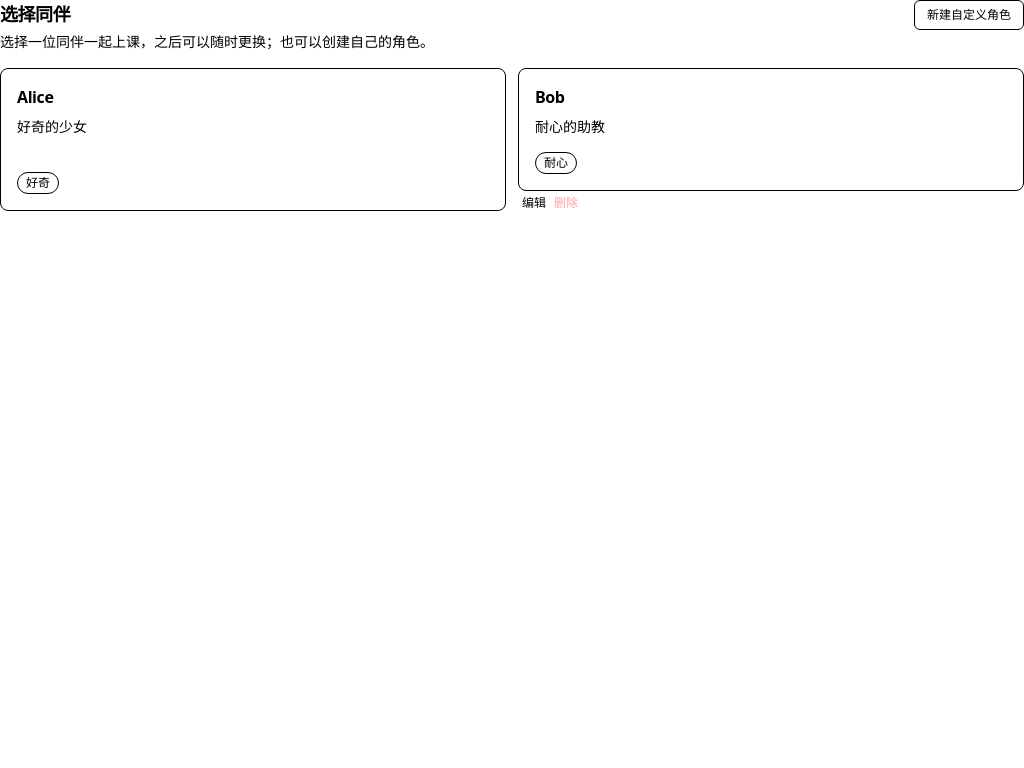
Test: CompanionSelector — custom companions › creates a custom companion from the form
Click the button "新建自定义角色" at (969, 15), box [914,0,1023,30]
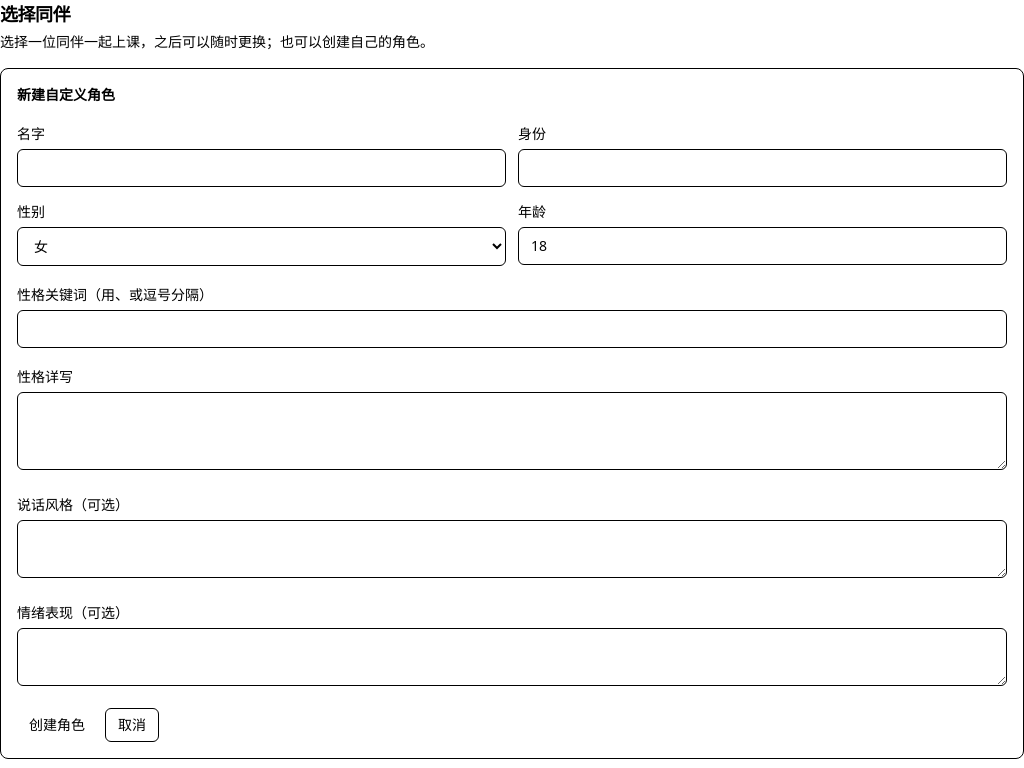
Type "小助手" into the field labelled "名字" at (262, 168), box [17,149,506,187]
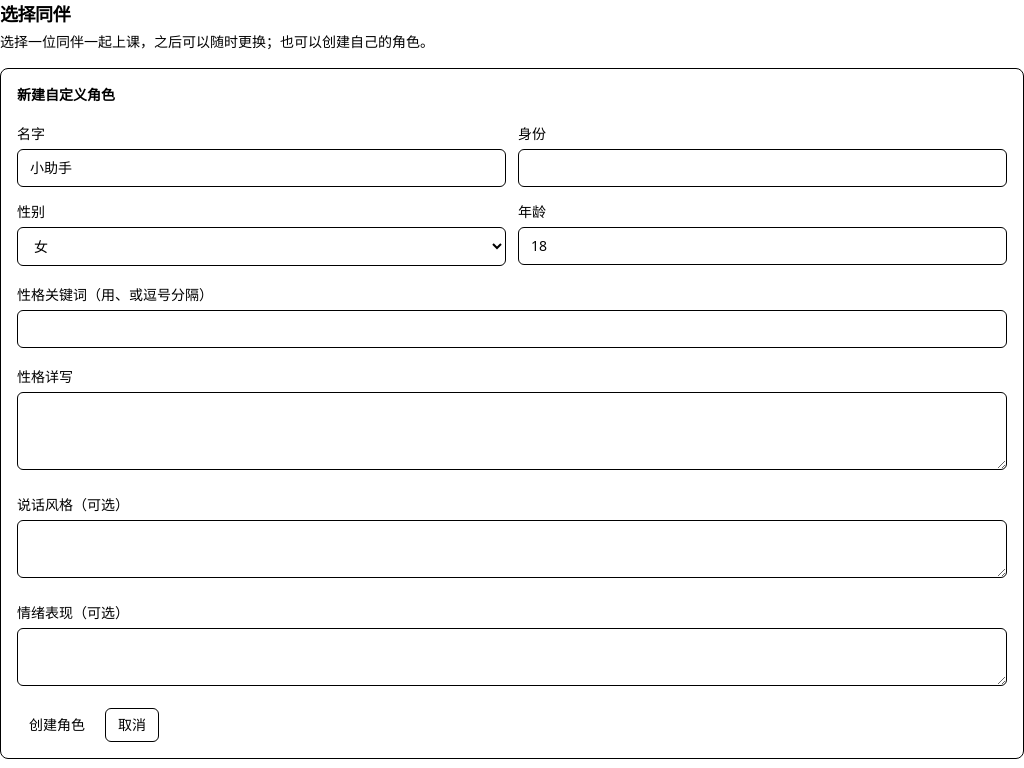
Type "学习伙伴" into the field labelled "身份" at (762, 168), box [518,149,1007,187]
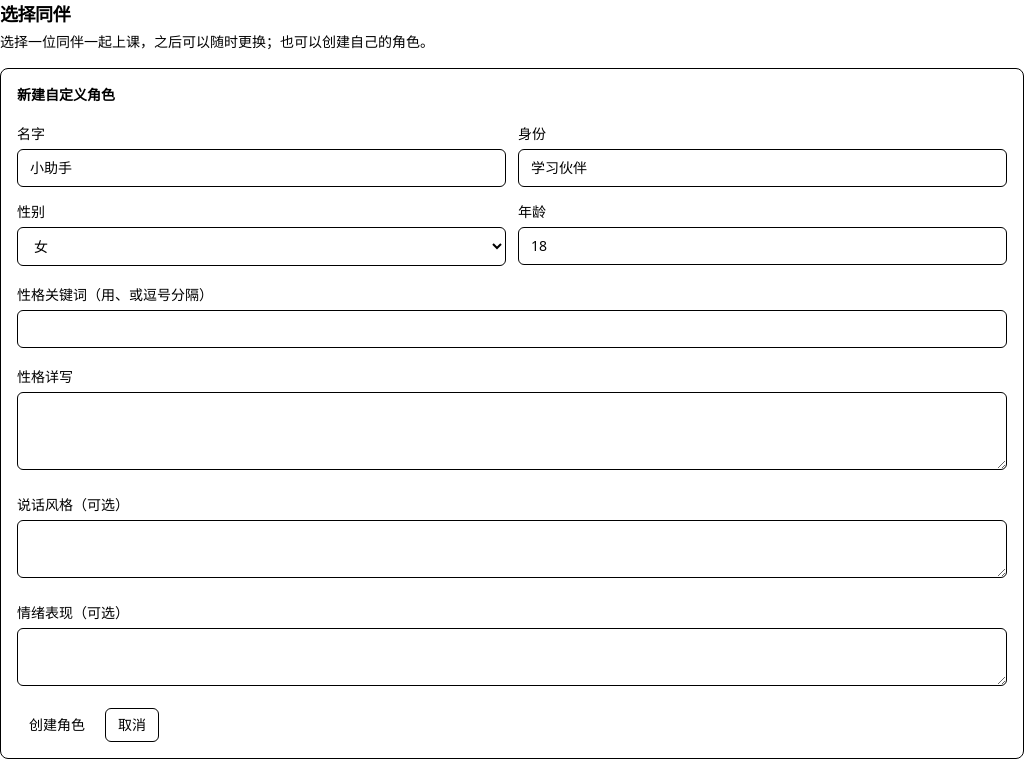
Type "耐心、幽默" into the field labelled "性格关键词（用、或逗号分隔）" at (512, 329), box [17,310,1007,348]
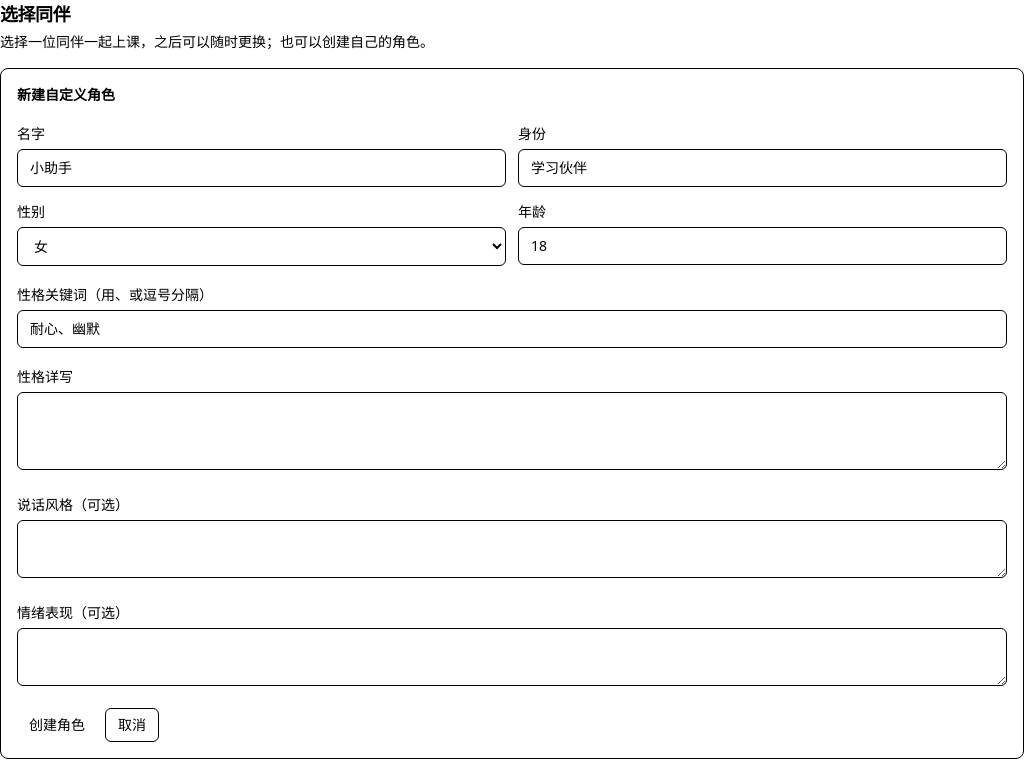
Type "他喜欢用问题引导。" into the text box labelled "性格详写" at (512, 431), box [17,392,1007,470]
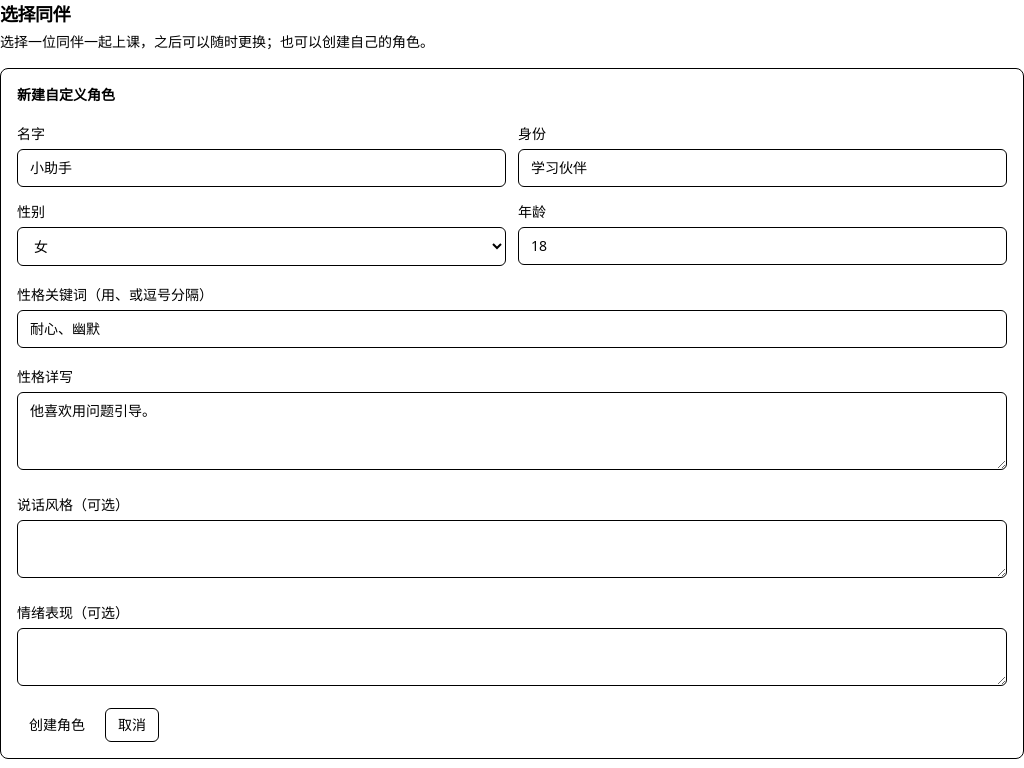
Click the button "创建角色" at (57, 725), box [17,708,97,742]
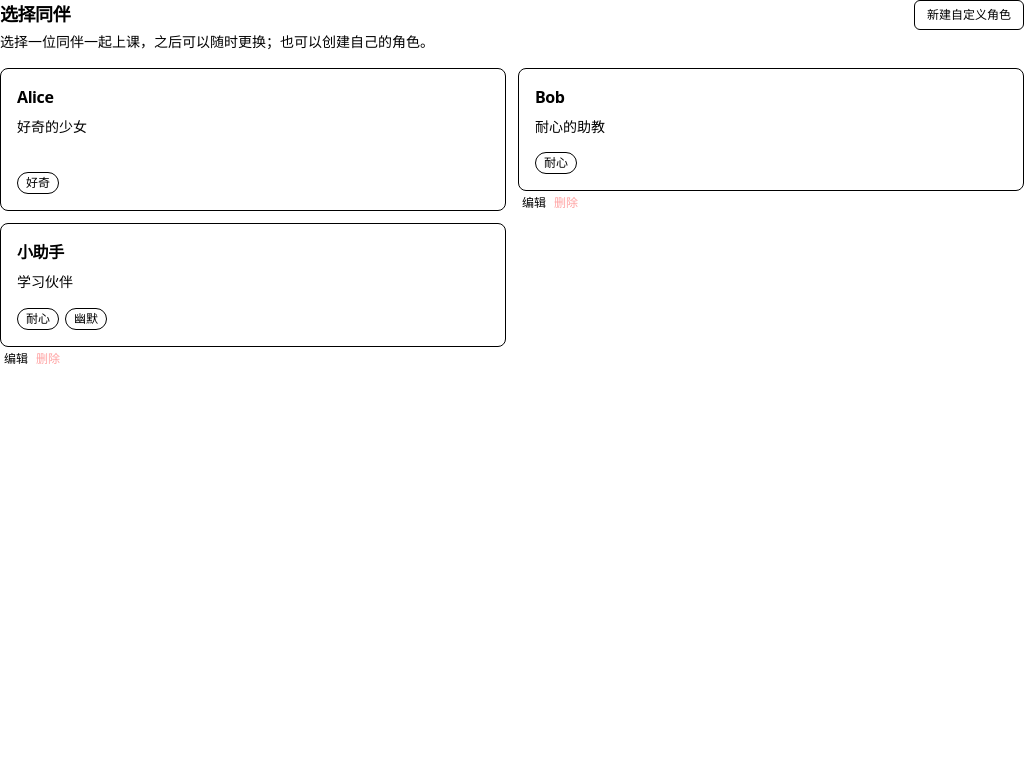
Check: the text "小助手" is shown, box [17,240,64,264]
